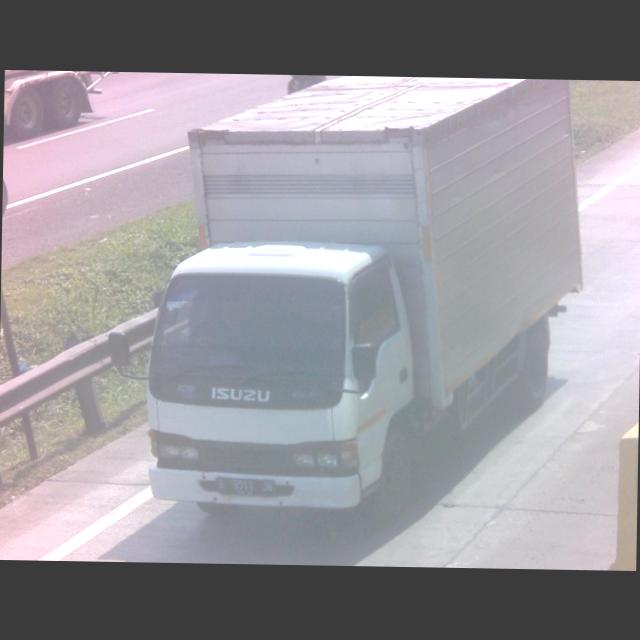plate: (212, 474, 278, 499)
